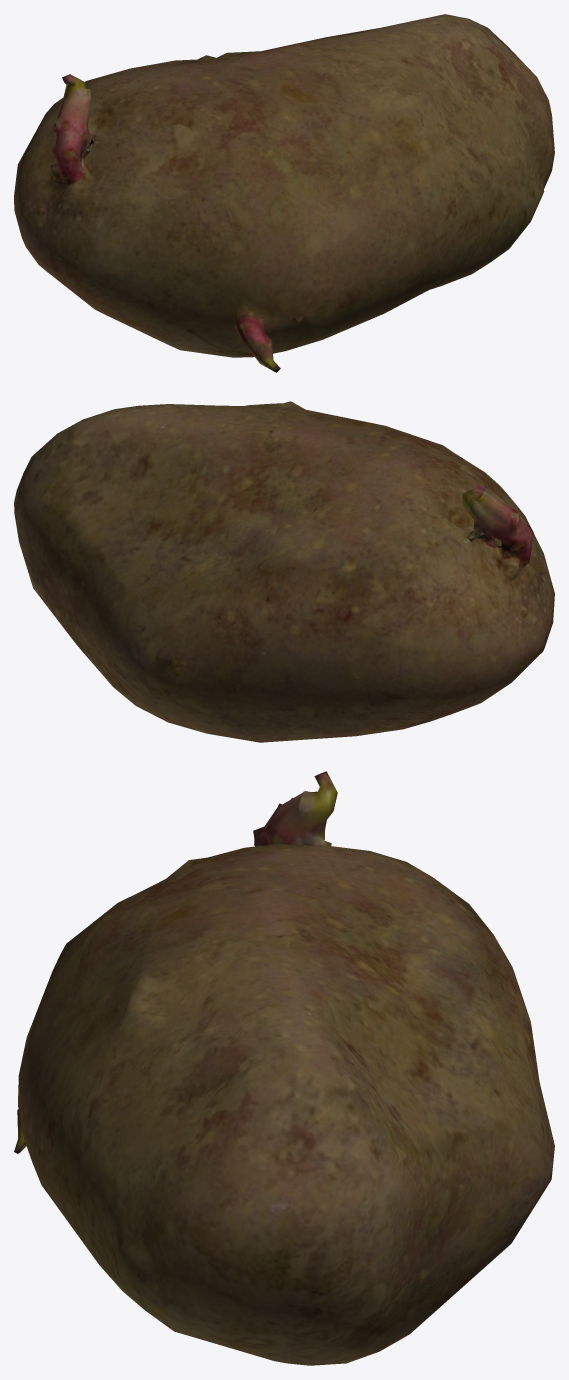
Rendered from 53_potato_purple.glb.
3 renders of one model, top to bottom at view 1: azimuth 30°, elevation 25°; view 2: azimuth 150°, elevation 25°; view 3: azimuth 270°, elevation 25°, orthographic. The views are drawn at different scales.
Visible parts, largest first — view 1: 53_potato; view 2: 53_potato; view 3: 53_potato.
Boxes of the visible parts, x1,y1,x2,y2 form: 53_potato: (14, 14, 554, 372); 53_potato: (14, 401, 554, 742); 53_potato: (14, 771, 554, 1365).
Bounding box in the file's own units: 1.03 × 0.568 × 0.7169.
1 material, 1 textured.
